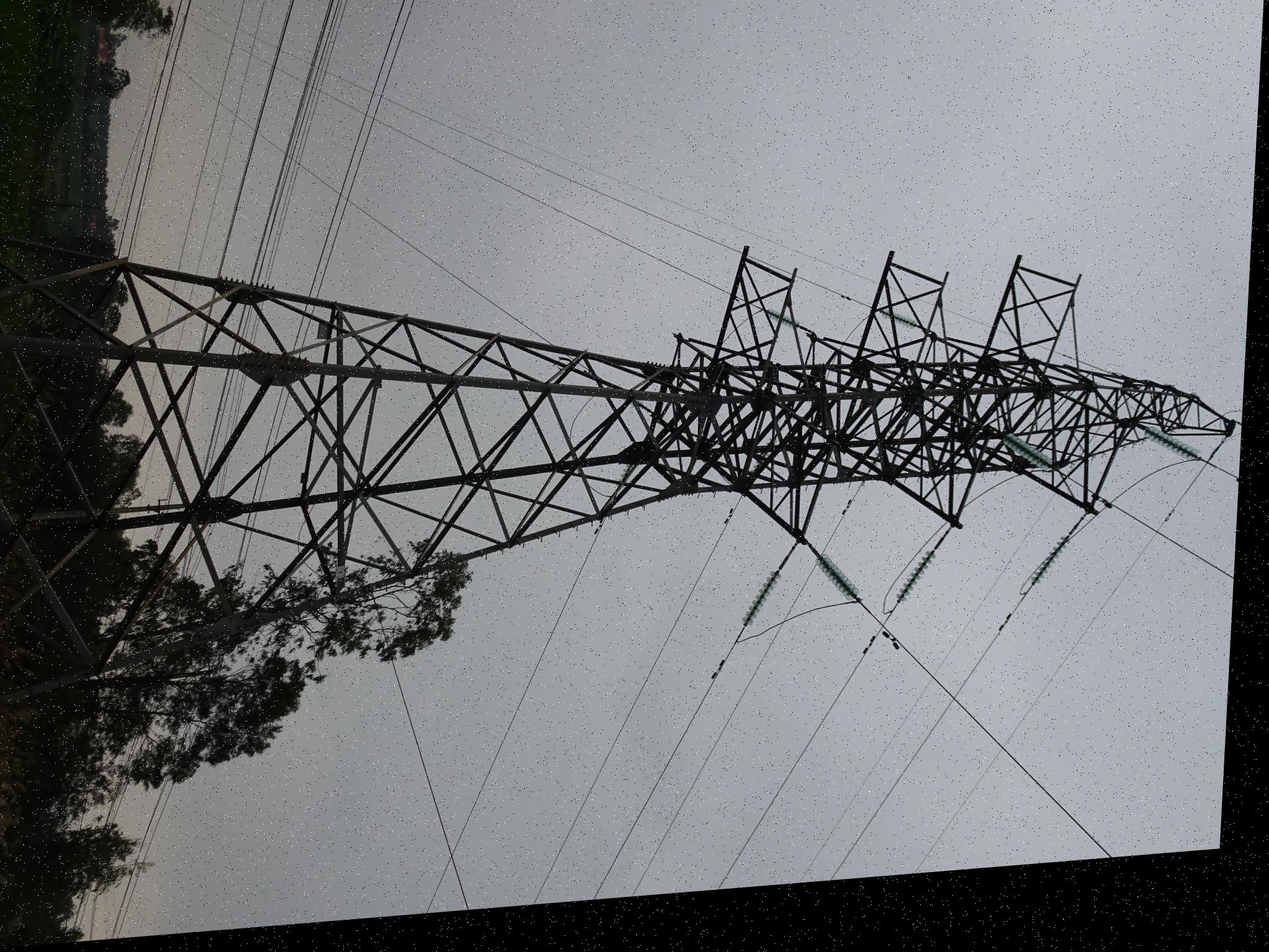tower: (157, 0, 727, 929)
